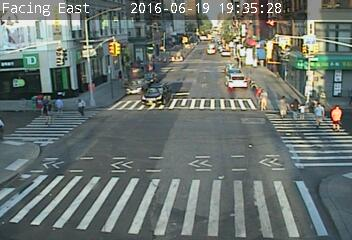neg: (51, 147, 75, 179), (93, 119, 117, 151), (152, 141, 176, 172), (275, 137, 298, 168), (146, 78, 168, 107), (10, 138, 31, 166), (311, 167, 332, 195), (118, 194, 139, 222), (171, 195, 191, 221), (137, 32, 155, 56), (63, 34, 81, 58), (11, 99, 27, 120), (246, 44, 261, 65), (111, 29, 126, 49), (204, 141, 218, 160), (242, 199, 255, 215), (165, 25, 177, 41), (133, 93, 144, 108), (20, 60, 31, 74)
pos: (251, 84, 275, 115), (326, 103, 347, 131), (37, 98, 57, 125), (288, 96, 306, 121), (275, 93, 293, 117), (311, 102, 328, 126), (73, 96, 89, 117), (51, 96, 65, 115)
